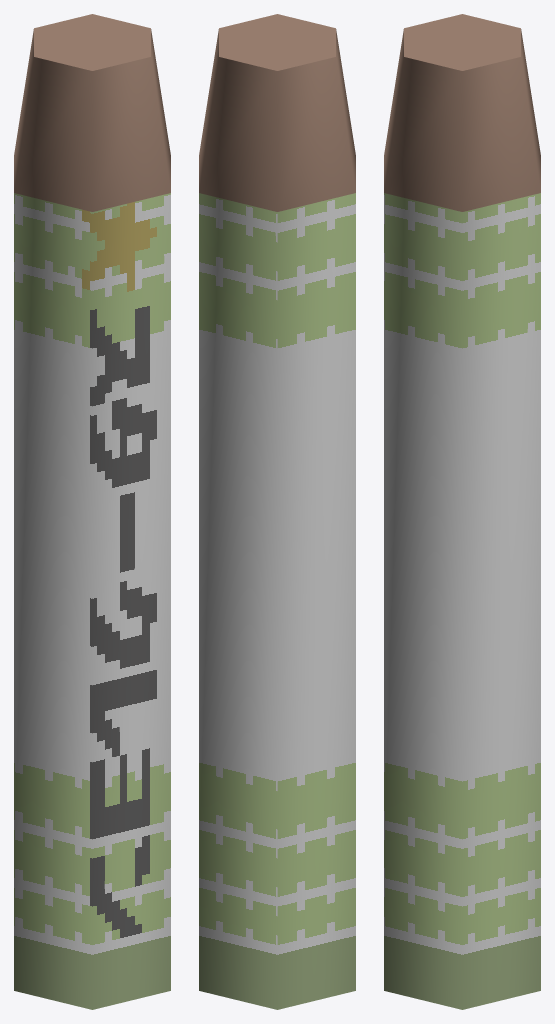
File: 0334_Brown_Crayon.glb
The picture shows the model from 3 angles, left to right: view 1: azimuth 30°, elevation 25°; view 2: azimuth 150°, elevation 25°; view 3: azimuth 270°, elevation 25°; orthographic projection.
Parts seen in each view (by area): view 1: part_0; view 2: part_0; view 3: part_0.
Part boxes in pixels (x1,y1,x2,y2): part_0: [14, 14, 170, 1009]; part_0: [199, 14, 355, 1009]; part_0: [384, 14, 540, 1009].
Size of the model in its own units: 0.014 by 0.0793 by 0.0121.
Materials: 1 (1 with a texture image).
